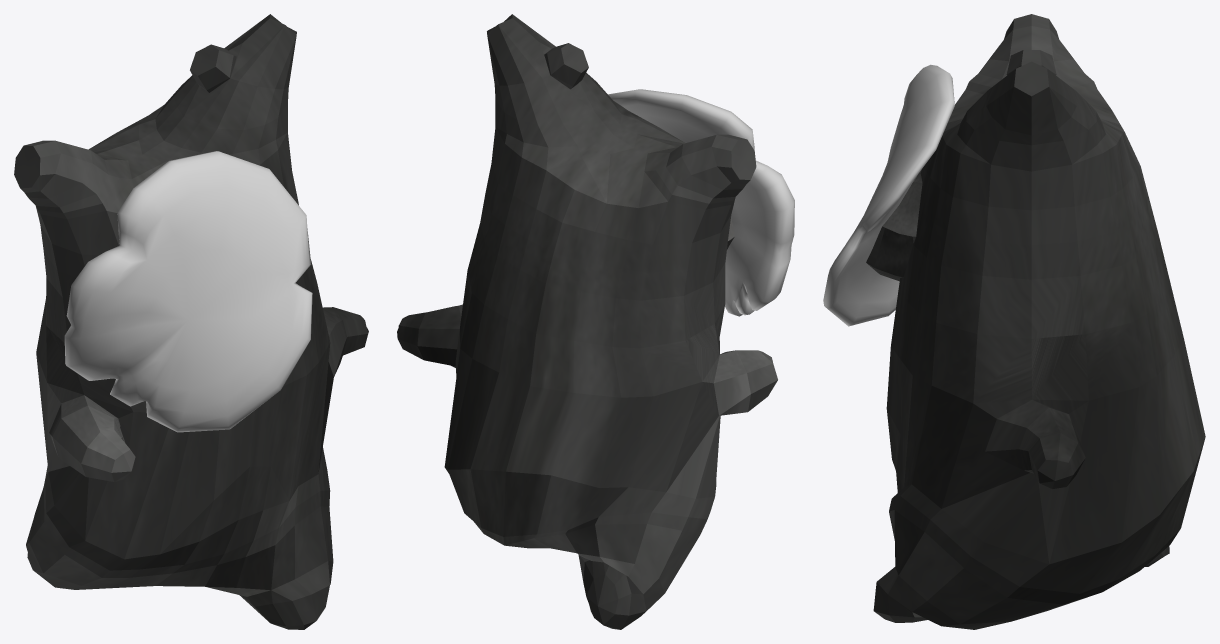
File: frame_0004.obj
3 renders of one model, left to right at view 1: azimuth 30°, elevation 25°; view 2: azimuth 150°, elevation 25°; view 3: azimuth 270°, elevation 25°, orthographic. The views are drawn at different scales.
Parts seen in each view (by area): view 1: korok, leaf; view 2: korok, leaf; view 3: korok, leaf, nose.
Part boxes in pixels (x1=…): korok: x1=14, y1=14, x2=368, y2=629; leaf: x1=64, y1=151, x2=312, y2=432; korok: x1=397, y1=14, x2=777, y2=629; leaf: x1=608, y1=89, x2=794, y2=316; korok: x1=873, y1=14, x2=1205, y2=629; leaf: x1=823, y1=64, x2=954, y2=326; nose: x1=866, y1=170, x2=922, y2=281.
Size of the model in its own units: 1.56 by 2.31 by 1.37.
